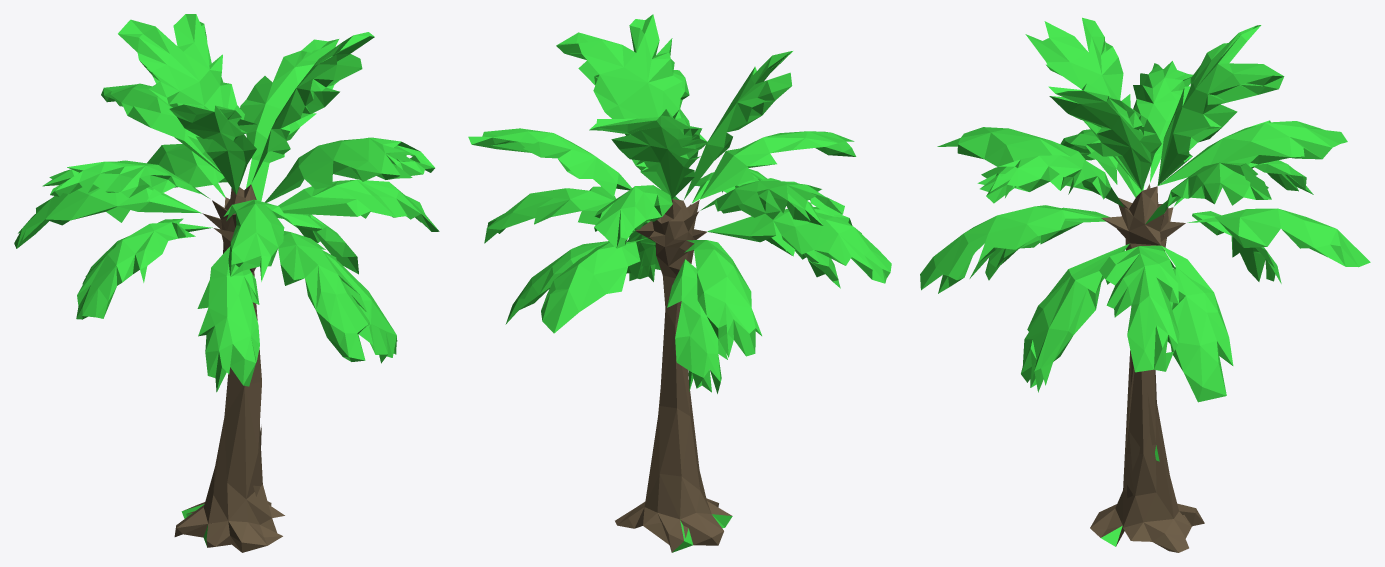
Rendered from Tree_4-col.glb.
3 renders of one model, left to right at view 1: azimuth 30°, elevation 25°; view 2: azimuth 150°, elevation 25°; view 3: azimuth 270°, elevation 25°, orthographic. The views are drawn at different scales.
Parts seen in each view (by area): view 1: geometry_0.004; view 2: geometry_0.004; view 3: geometry_0.004.
Boxes of the visible parts, bbox=[...] form: geometry_0.004: bbox=[14, 14, 439, 552]; geometry_0.004: bbox=[468, 14, 891, 552]; geometry_0.004: bbox=[920, 17, 1370, 552].
Size of the model in its own units: 1.67 by 2 by 1.68.
